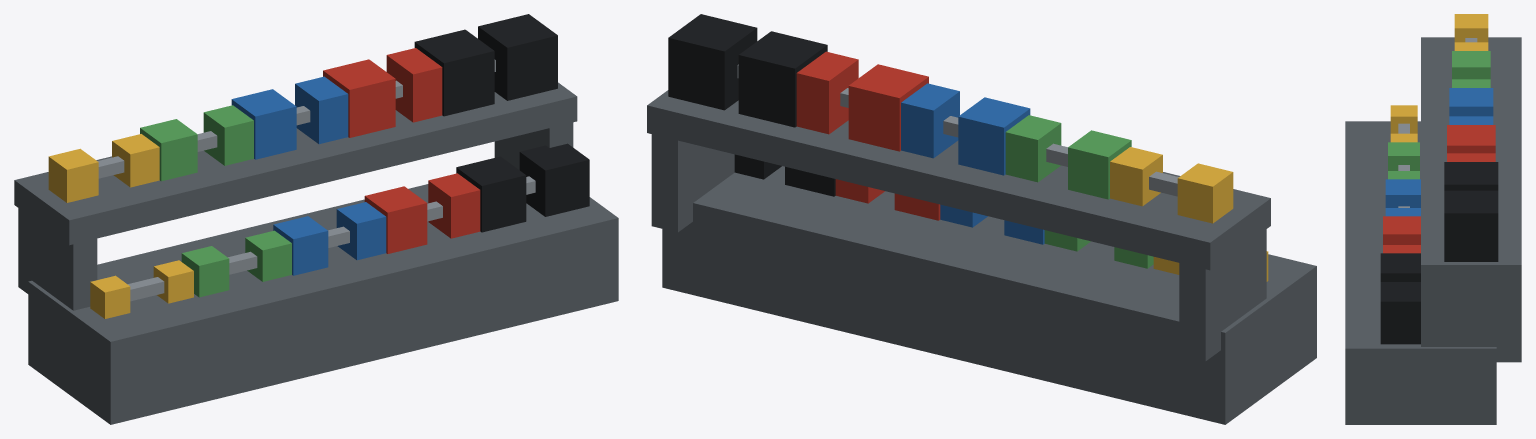
File: DumbbellRack.fbx
3 renders of one model, left to right at view 1: azimuth 30°, elevation 25°; view 2: azimuth 150°, elevation 25°; view 3: azimuth 270°, elevation 25°, orthographic. The views are drawn at different scales.
Parts seen in each view (by area): view 1: DumbbellRack_Mesh; view 2: DumbbellRack_Mesh; view 3: DumbbellRack_Mesh.
Part boxes in pixels (x1=…): DumbbellRack_Mesh: x1=14, y1=14, x2=618, y2=424; DumbbellRack_Mesh: x1=647, y1=14, x2=1316, y2=424; DumbbellRack_Mesh: x1=1345, y1=14, x2=1521, y2=424.
Bounding box in the file's own units: 3.2 × 1.37 × 1.05.
Materials: 1 (1 with a texture image).
